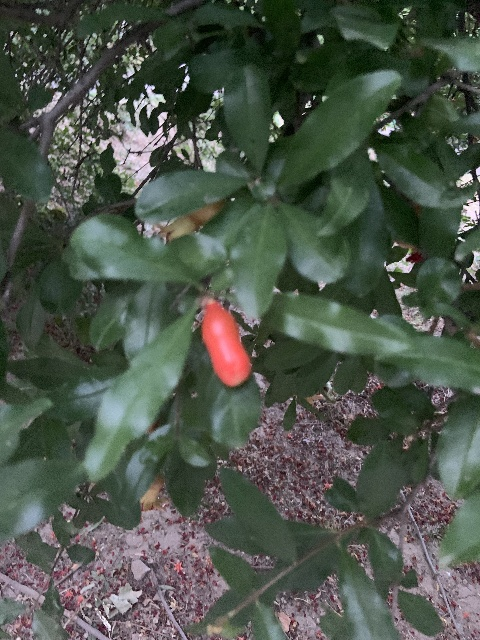bud: (200, 300, 251, 388)
early-fruit: (153, 201, 224, 242), (139, 476, 166, 512)
